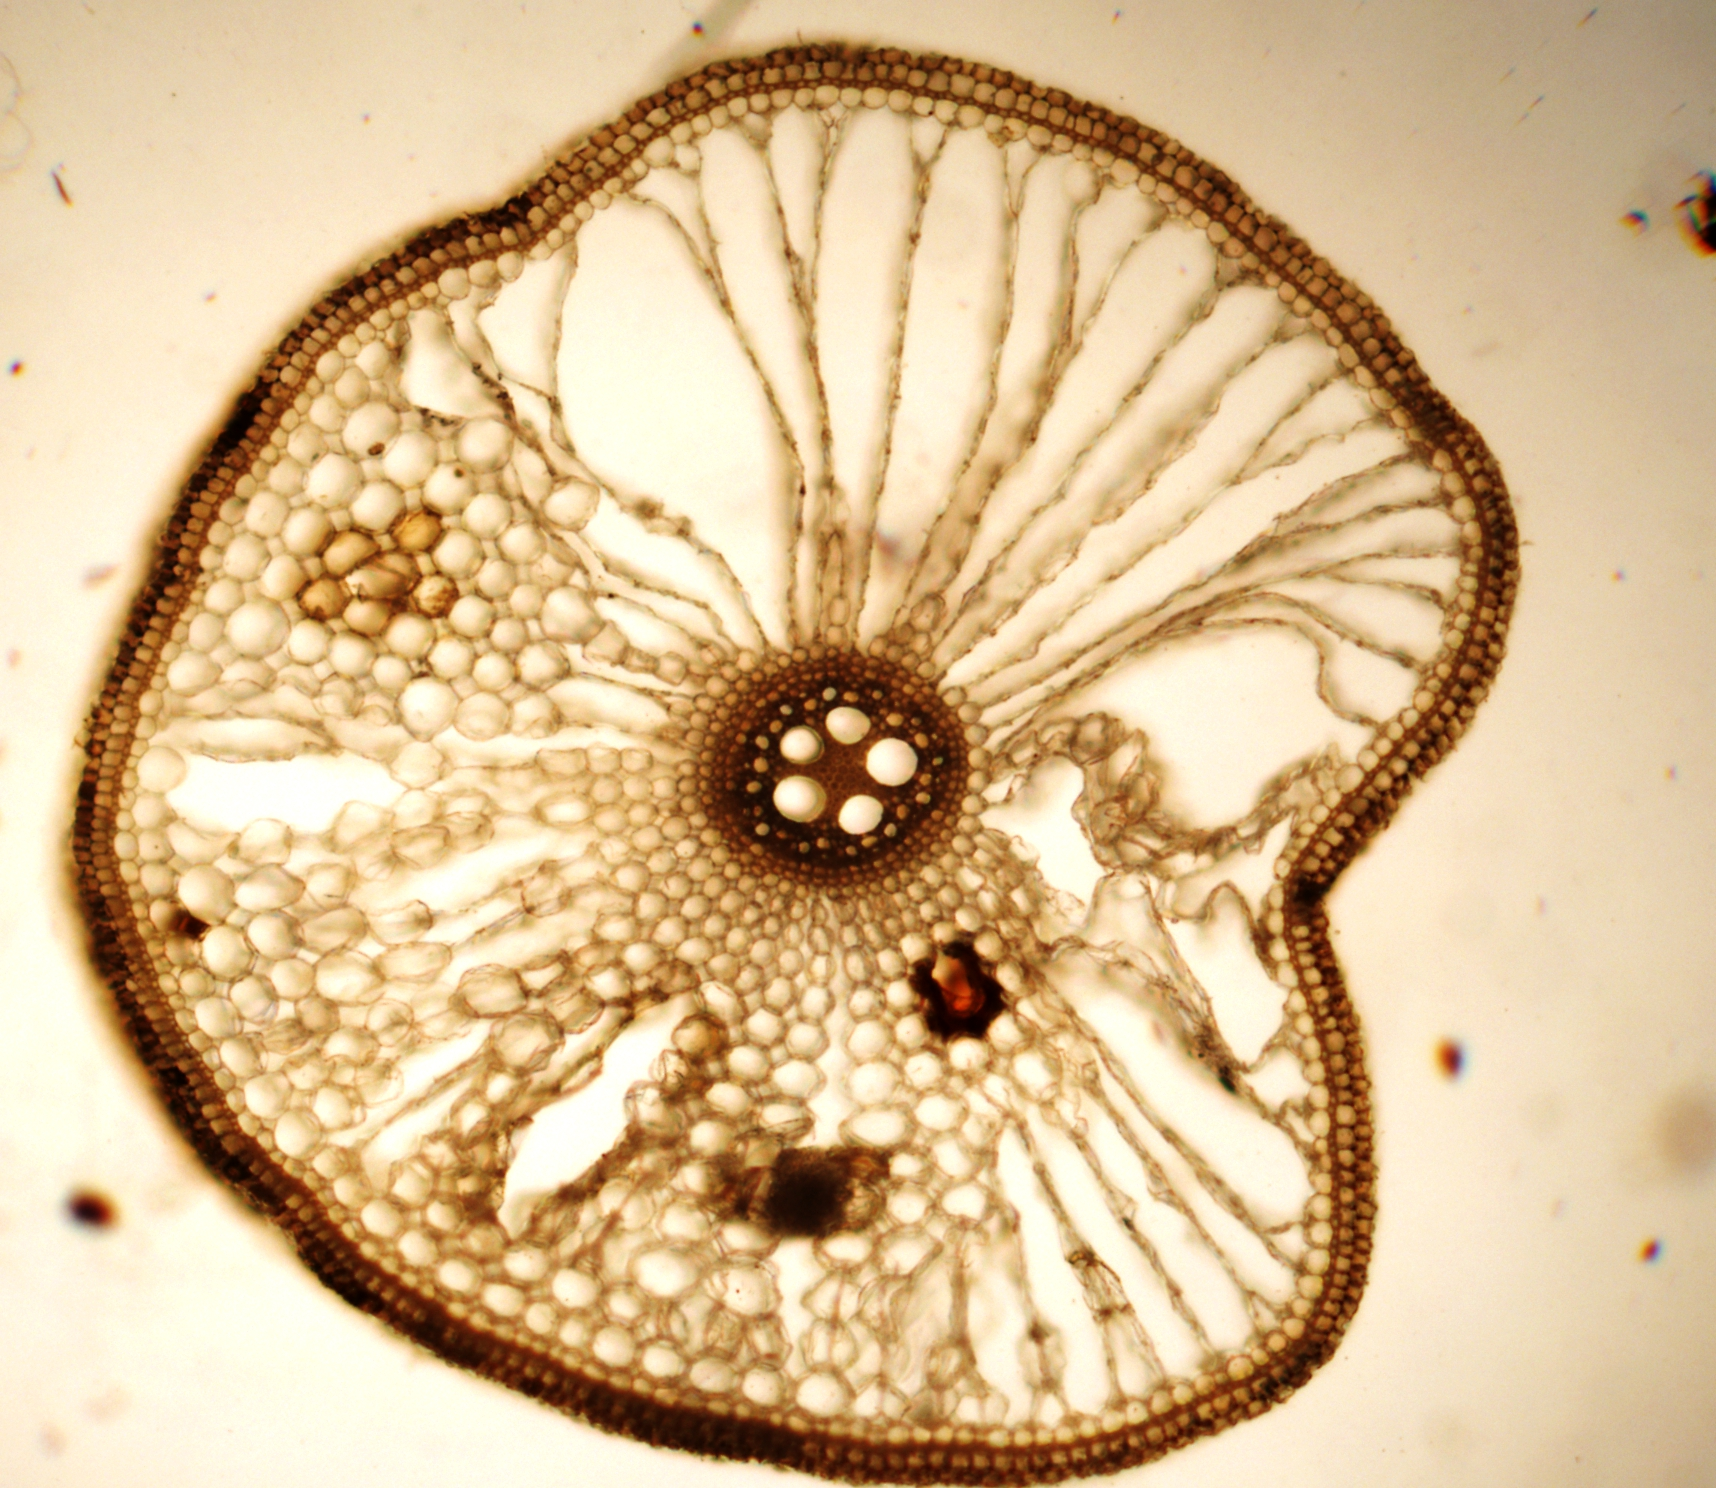lm: (772, 775, 827, 823), (865, 737, 918, 786), (838, 794, 883, 834), (824, 706, 871, 745), (779, 725, 824, 764)
